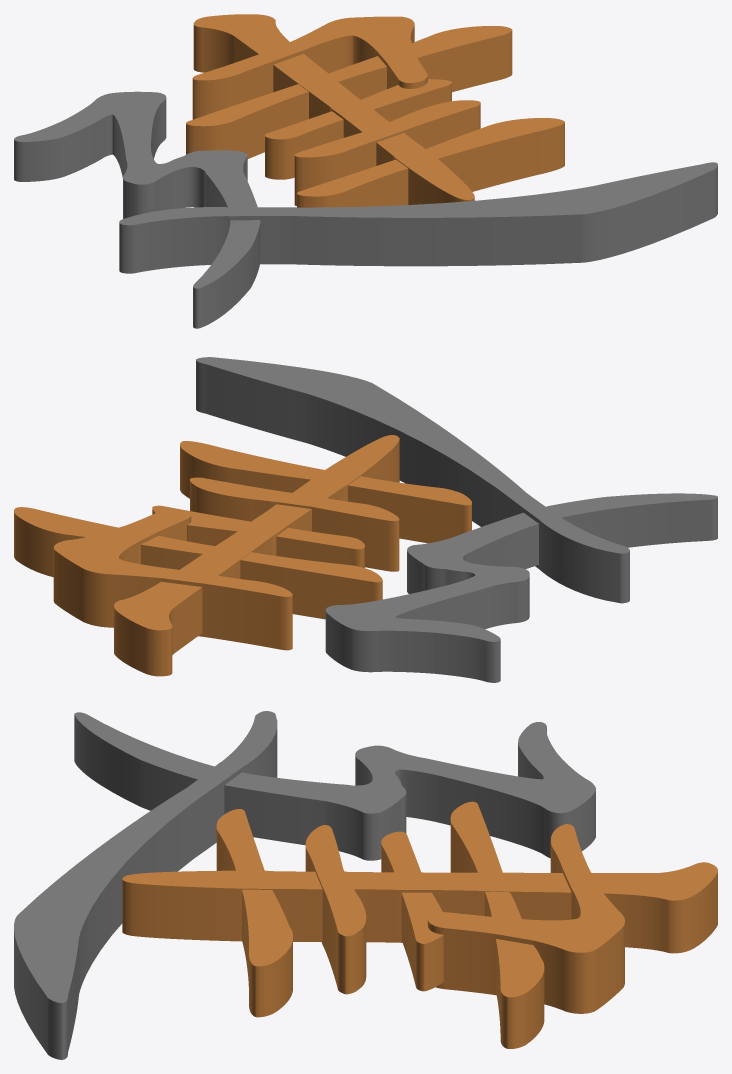
Rendered from hanzi127.fbx.
3 renders of one model, top to bottom at view 1: azimuth 30°, elevation 25°; view 2: azimuth 150°, elevation 25°; view 3: azimuth 270°, elevation 25°, orthographic. The views are drawn at different scales.
Parts seen in each view (by area): view 1: Curve.007, Curve.006, Curve.001, Curve.005, Curve.004, Curve, Curve.003, Curve.002; view 2: Curve.006, Curve.007, Curve, Curve.005, Curve.001, Curve.004, Curve.003, Curve.002; view 3: Curve.006, Curve.005, Curve.007, Curve, Curve.001, Curve.004, Curve.003, Curve.002.
Part boxes in pixels (x1,y1,x2,y2): Curve.007: (119,162,717,273); Curve.006: (14,91,260,328); Curve.001: (186,26,512,158); Curve.005: (193,14,474,204); Curve.004: (297,118,564,207); Curve: (192,16,427,119); Curve.003: (294,100,480,205); Curve.002: (265,79,451,179); Curve.006: (325,493,717,682); Curve.007: (196,357,629,603); Curve: (53,509,292,650); Curve.005: (114,435,399,676); Curve.001: (14,507,382,619); Curve.004: (180,441,471,543); Curve.003: (190,477,399,571); Curve.002: (152,505,364,567); Curve.006: (74,712,595,860); Curve.005: (122,862,717,953); Curve.007: (14,711,277,1059); Curve: (427,824,624,1013); Curve.001: (450,801,544,1048); Curve.004: (216,809,292,1017); Curve.003: (305,825,366,994); Curve.002: (381,831,443,991).
Bounding box in the file's own units: 24.72 × 24.88 × 2.38.
